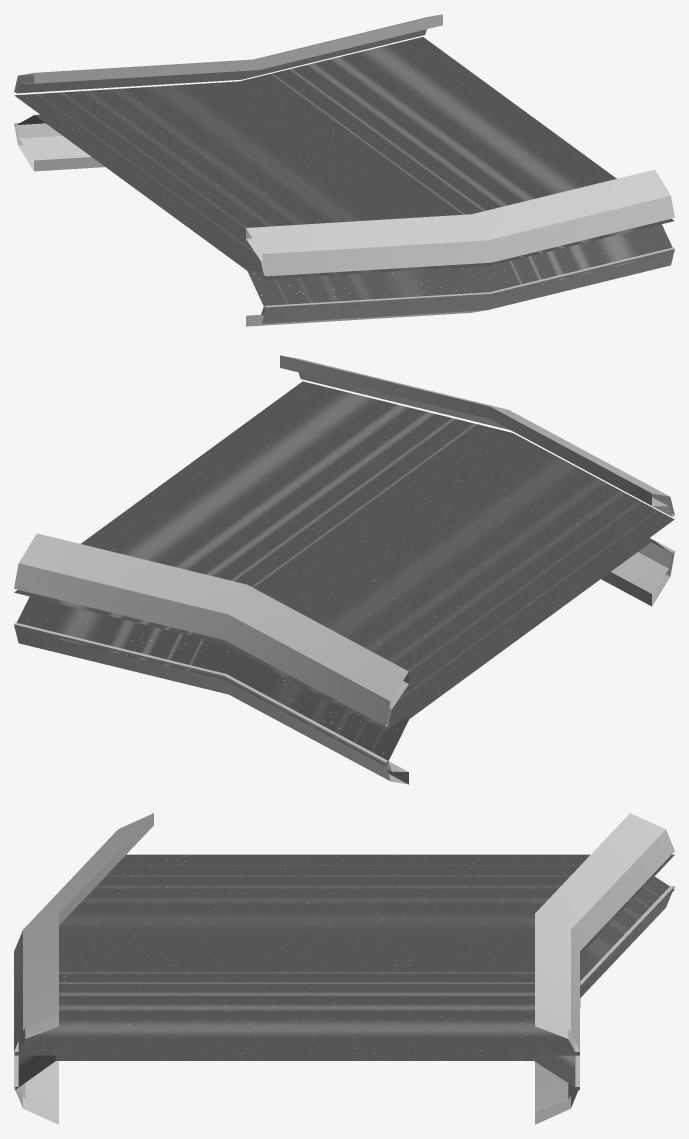
The model's file is Right_Road.fbx.
3 views of the same model, one above another, from view 1: azimuth 30°, elevation 25°; view 2: azimuth 150°, elevation 25°; view 3: azimuth 270°, elevation 25° (orthographic). The views are drawn at different scales.
Parts seen in each view (by area): view 1: HoloRoad, RightTurn; view 2: HoloRoad, RightTurn; view 3: HoloRoad, RightTurn.
Boxes of the visible parts, x1=… form: HoloRoad: x1=14, y1=37, x2=674, y2=310; RightTurn: x1=14, y1=14, x2=674, y2=326; HoloRoad: x1=14, y1=381, x2=674, y2=765; RightTurn: x1=14, y1=355, x2=674, y2=784; HoloRoad: x1=14, y1=854, x2=674, y2=1090; RightTurn: x1=14, y1=813, x2=674, y2=1124.
Bounding box in the file's own units: 10 × 2.57 × 13.9.
